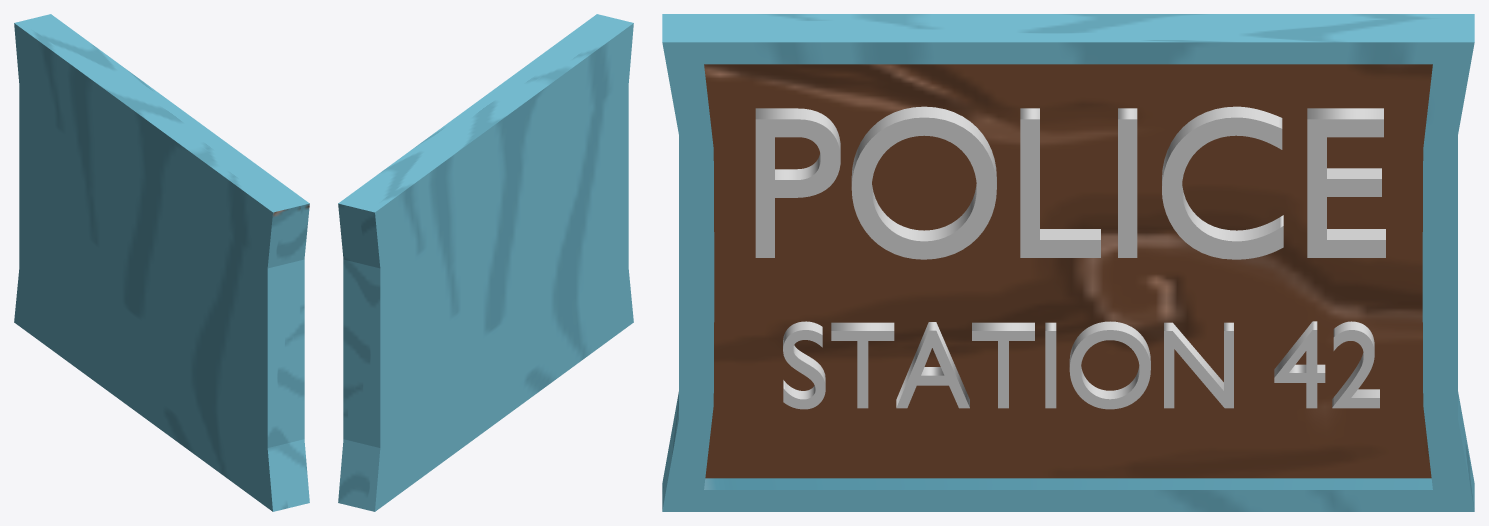
The model's file is Police Sign.fbx.
3 views of the same model, side by side, from view 1: azimuth 30°, elevation 25°; view 2: azimuth 150°, elevation 25°; view 3: azimuth 270°, elevation 25° (orthographic). The views are drawn at different scales.
Parts seen in each view (by area): view 1: Cube.054; view 2: Cube.054; view 3: Cube.054, Text, Text.001.
Boxes of the visible parts, x1,y1,x2,y2 form: Cube.054: (14, 14, 309, 511); Cube.054: (338, 14, 633, 511); Cube.054: (662, 14, 1474, 511); Text: (755, 106, 1385, 259); Text.001: (783, 321, 1379, 409).
Bounding box in the file's own units: 344 × 2314 × 3627.
